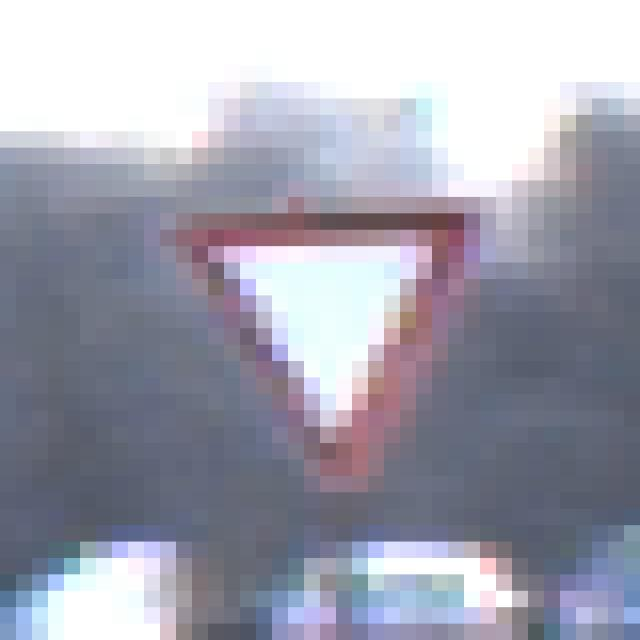Give Way: (97, 83, 561, 559)
